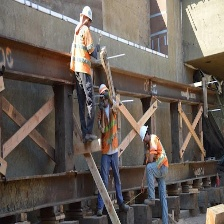helmet: (138, 123, 152, 145), (81, 6, 95, 21), (98, 83, 108, 96)
person: (69, 2, 100, 144), (97, 82, 121, 220), (139, 124, 171, 224)
vest: (71, 24, 96, 80), (100, 103, 118, 153), (150, 136, 167, 167)
